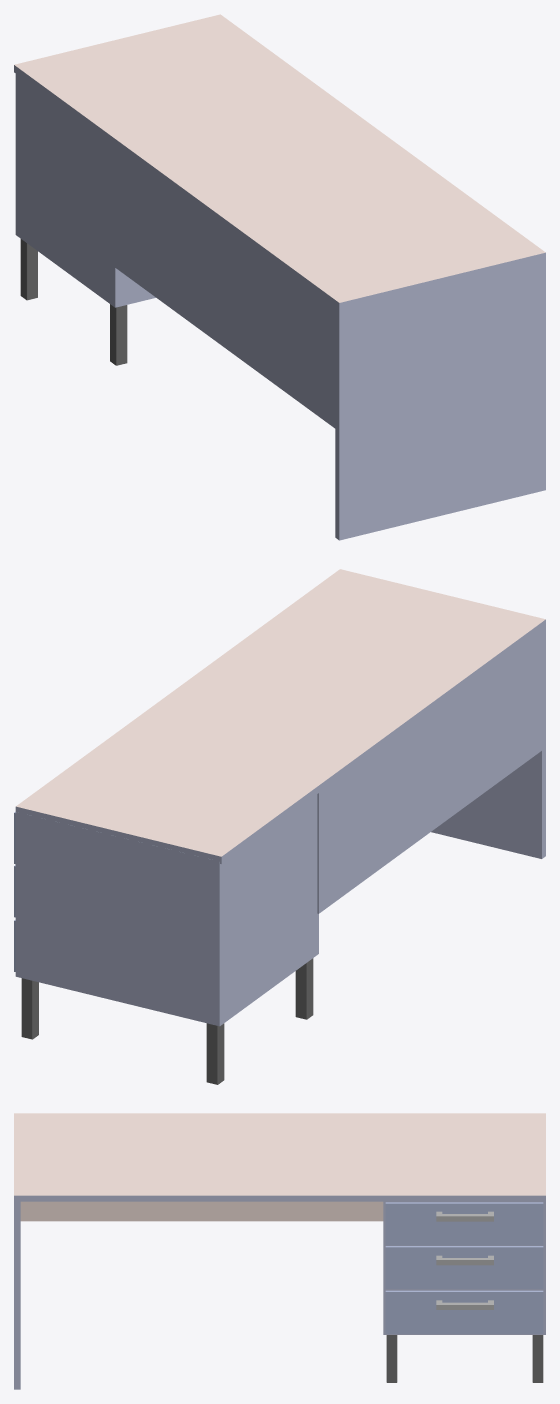
Rendered from table.fbx.
The picture shows the model from 3 angles, top to bottom: view 1: azimuth 30°, elevation 25°; view 2: azimuth 150°, elevation 25°; view 3: azimuth 270°, elevation 25°; orthographic projection. The views are drawn at different scales.
Visible parts, largest first — view 1: Cube.217, Cube.218, Cube.227, Cube.228; view 2: Cube.217, Cube.218, Cube.228, Cube.226, Cube.227; view 3: Cube.217, Cube.219, Cube.221, Cube.220, Cube.218, Cube.225, Cube.226, Cube.222, Cube.223, Cube.224.
Part boxes in pixels (x1,y1,x2,y2): Cube.217: (14, 14, 545, 540); Cube.218: (15, 74, 155, 307); Cube.227: (110, 304, 127, 365); Cube.228: (20, 239, 37, 300); Cube.217: (15, 569, 545, 913); Cube.218: (15, 794, 318, 1026); Cube.228: (206, 1023, 224, 1084); Cube.226: (21, 978, 38, 1039); Cube.227: (295, 958, 313, 1019); Cube.217: (14, 1113, 545, 1389); Cube.219: (385, 1202, 543, 1245); Cube.221: (385, 1290, 543, 1333); Cube.220: (385, 1246, 543, 1288); Cube.218: (383, 1201, 545, 1334); Cube.225: (386, 1335, 397, 1382); Cube.226: (532, 1335, 543, 1382); Cube.222: (436, 1211, 493, 1221); Cube.223: (436, 1255, 493, 1265); Cube.224: (436, 1300, 493, 1309).
Bounding box in the file's own units: 308 × 317 × 786.
